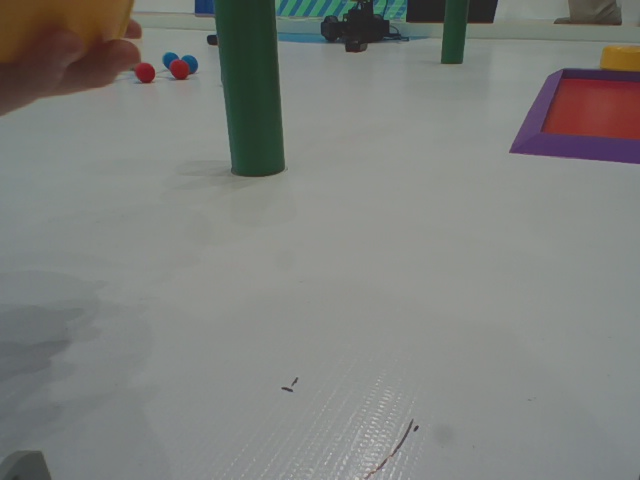blue: (180, 55, 198, 71), (161, 49, 175, 66)
kuang: (506, 71, 640, 165)
red: (168, 61, 189, 79), (135, 62, 154, 81)
yellow: (597, 43, 640, 71)
zhuzi: (213, 1, 289, 175), (439, 1, 469, 66)
